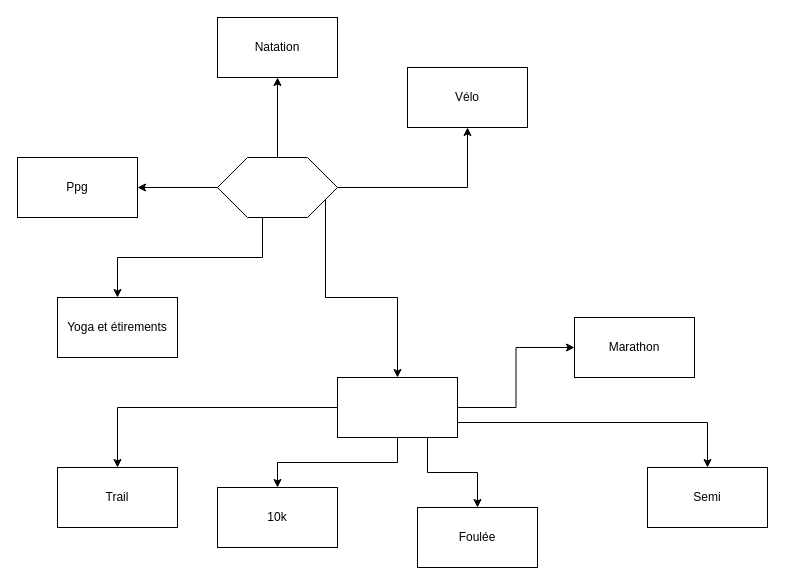
Image size: 785x585. Some labels were removed from this diagram. Each missing label, with the box of its shape:
Cap: (336, 376, 458, 438)
Entraînement: (216, 156, 338, 218)
